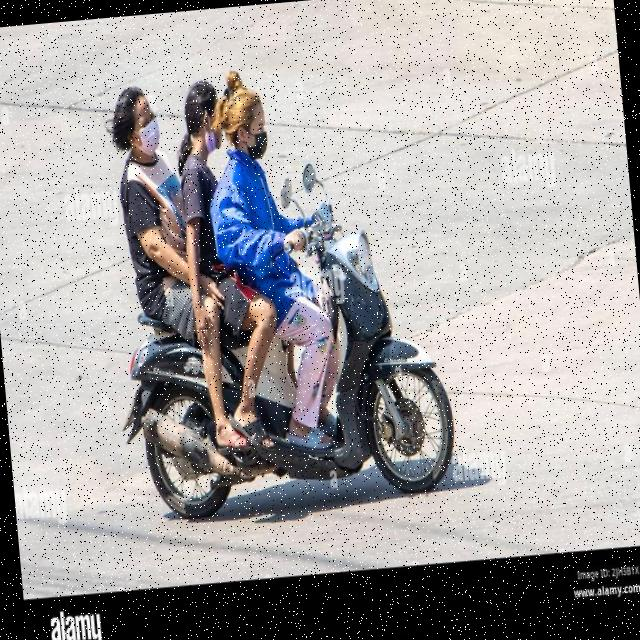Triple riding: (98, 52, 332, 374)
